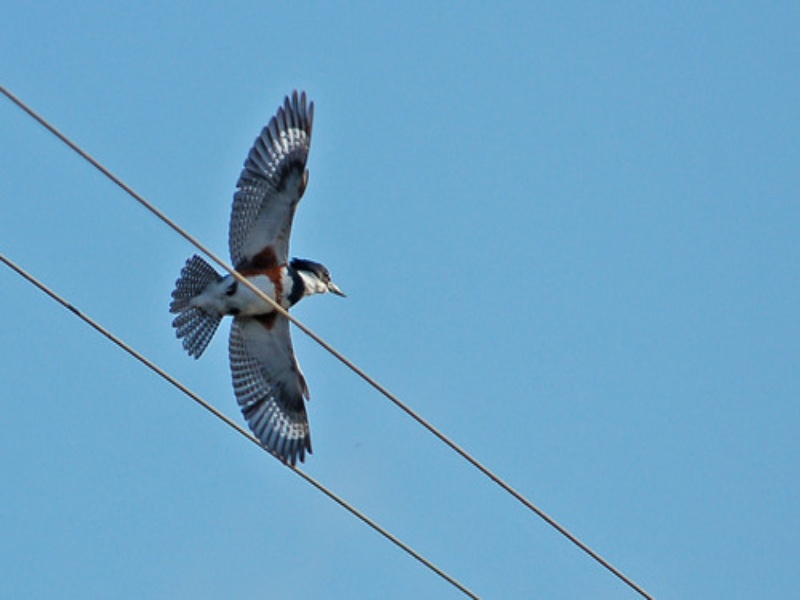kingfisher: (163, 81, 349, 476)
